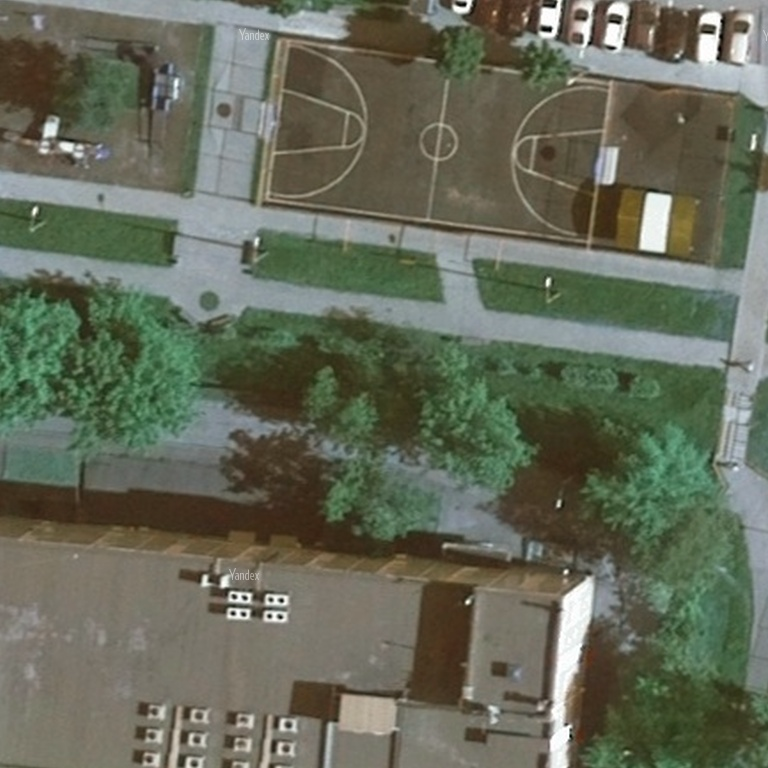basket_court: (243, 23, 631, 255)
